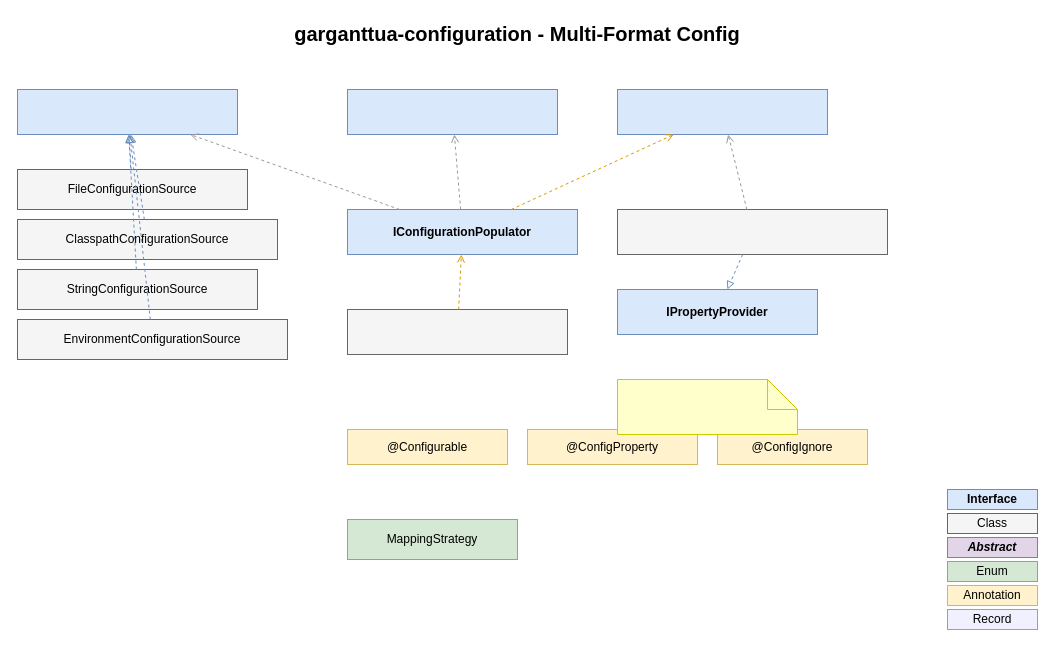
Some shapes in this 1055 by 647 pixel diagram are drawn without their labels. Each missing label, with the centre of its shape:
"ConfigurationBuilder" belongs at [457,331].
"ConfigurationPropertyProvider" belongs at [752,231].
"Formats: JSON, YAML, XML, TOML, Properties (conditional on classpath)" belongs at [707,406].
"IConfigurationFormat" belongs at [452,111].
"IConfigurationNode" belongs at [722,111].
"IConfigurationSource" belongs at [127,111].
